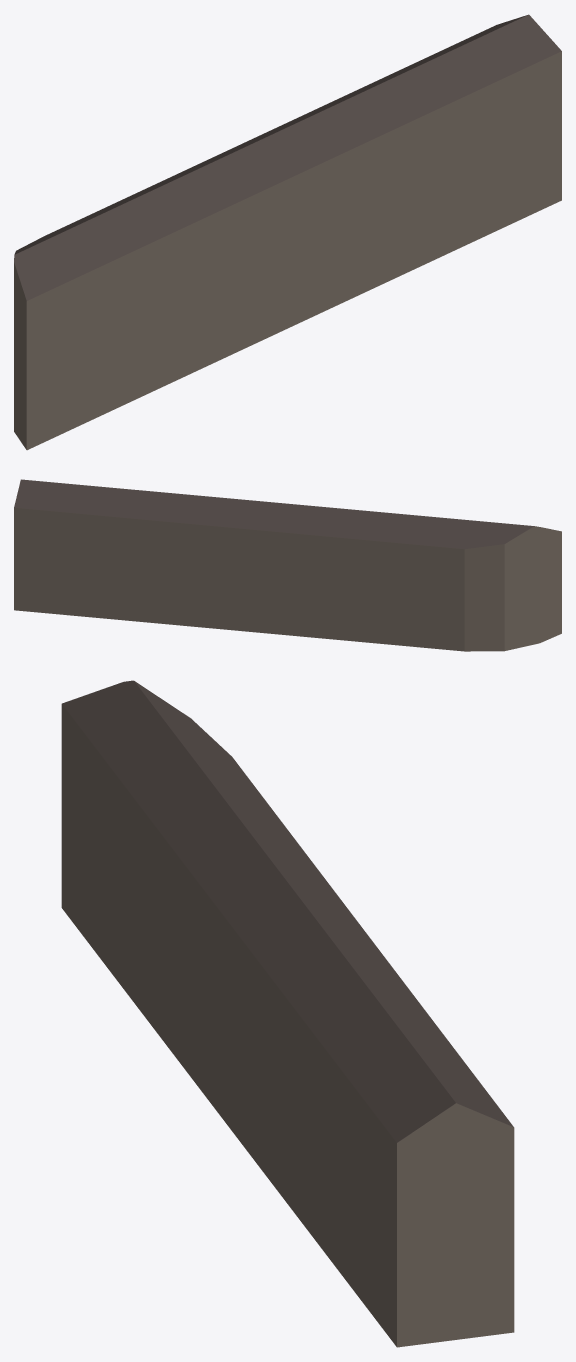
3 views of the same model, one above another, from view 1: azimuth 30°, elevation 25°; view 2: azimuth 150°, elevation 25°; view 3: azimuth 270°, elevation 25° (orthographic). The views are drawn at different scales.
Visible parts, largest first — view 1: HP-w1196401628; view 2: HP-w1196401628; view 3: HP-w1196401628.
Part boxes in pixels (x1,y1,x2,y2): HP-w1196401628: (14,14,561,450); HP-w1196401628: (14,479,561,651); HP-w1196401628: (61,680,514,1347).
Bounding box in the file's own units: 27.65 × 6.95 × 12.03.
